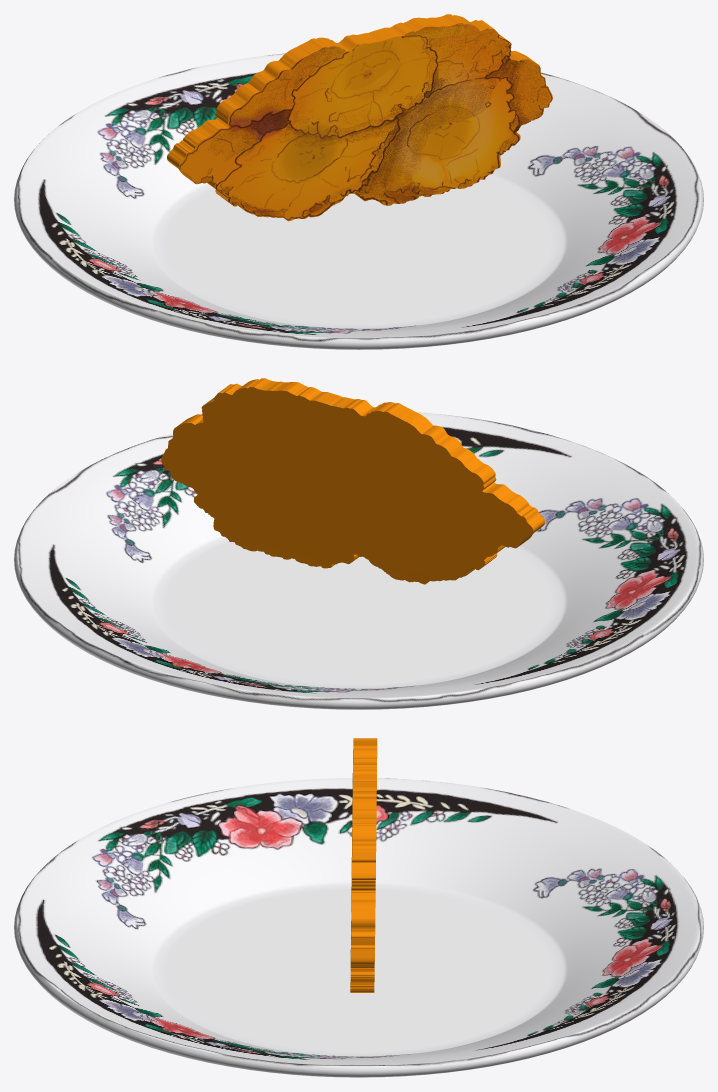
File: Patacon.glb
3 renders of one model, top to bottom at view 1: azimuth 30°, elevation 25°; view 2: azimuth 150°, elevation 25°; view 3: azimuth 270°, elevation 25°, orthographic.
Visible parts, largest first — view 1: Plato.001, Patacon; view 2: Plato.001, Patacon; view 3: Plato.001, Patacon.
Part boxes in pixels (x1,y1,x2,y2): Plato.001: (14,53,703,349); Patacon: (167,14,552,221); Plato.001: (14,412,703,709); Patacon: (161,378,544,584); Plato.001: (14,778,703,1077); Patacon: (350,738,377,992).
Bounding box in the file's own units: 18.56 × 6.47 × 18.56.
Materials: 2 (2 with a texture image).
